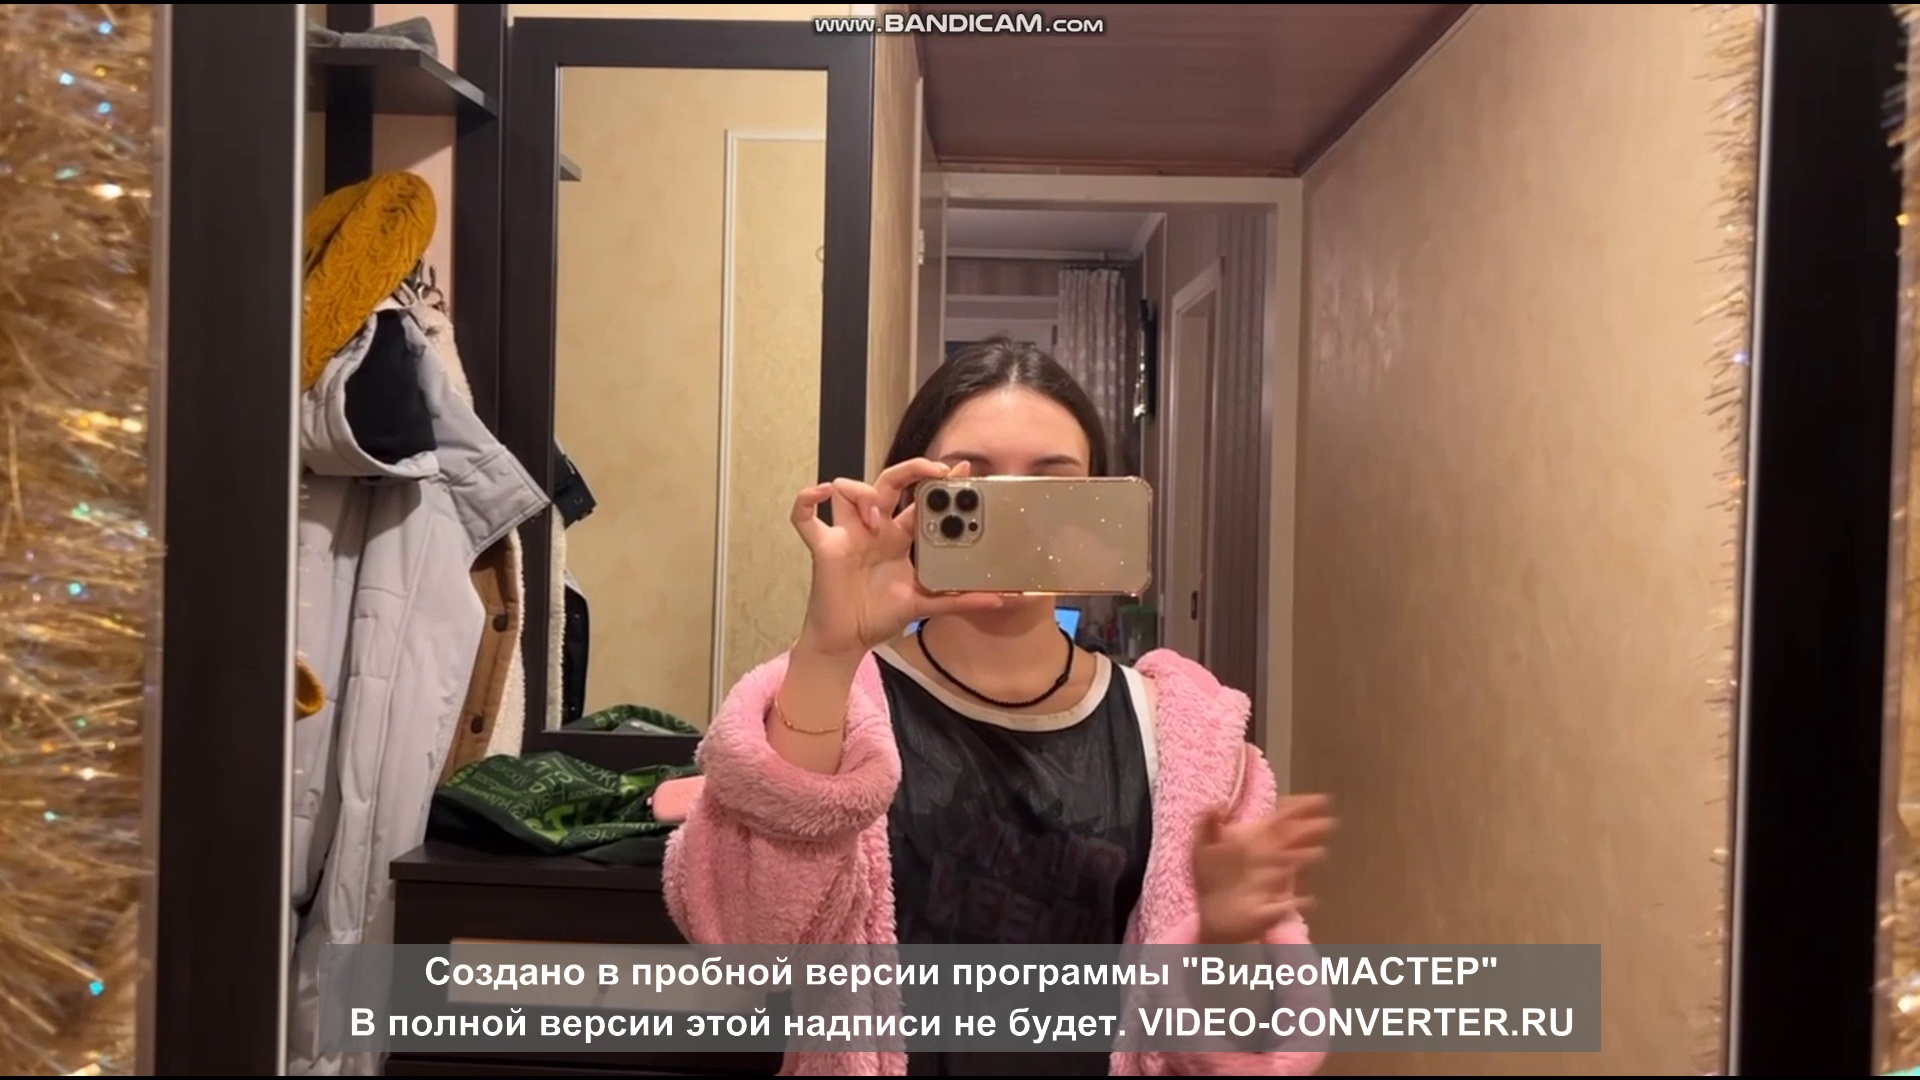Ладонь: (1191, 786, 1340, 939)
